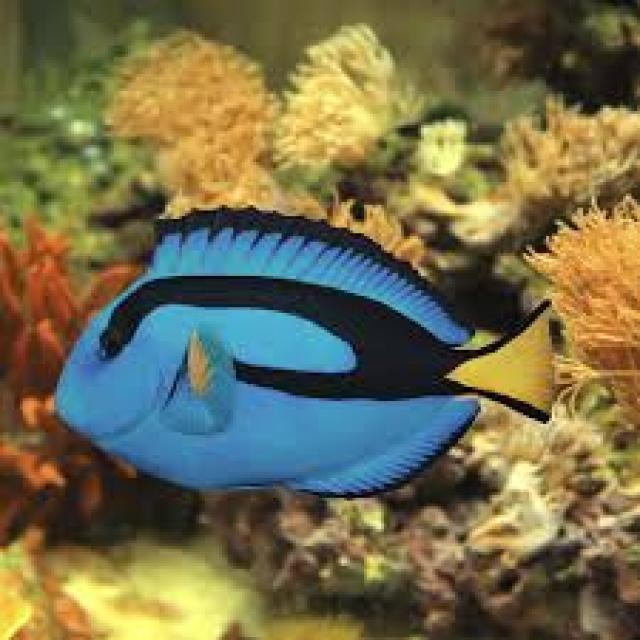BlueTang: (57, 213, 557, 494)
